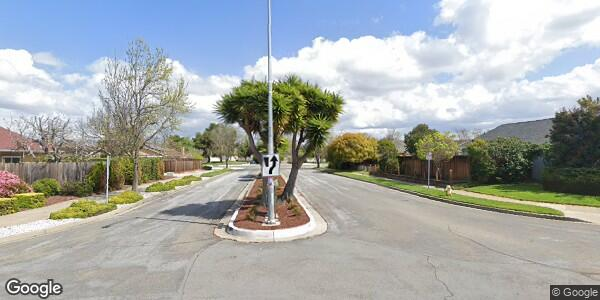Steel_Pole: (261, 1, 281, 228)
